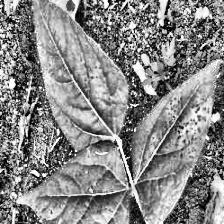ALS: (30, 0, 130, 145), (132, 61, 216, 224), (16, 144, 127, 224)
